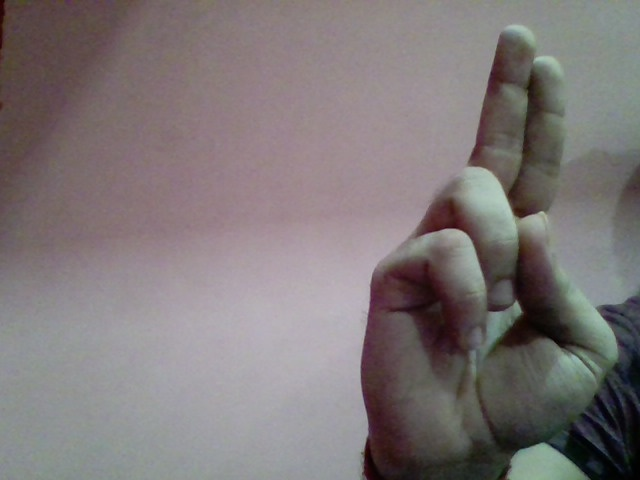u: (343, 18, 627, 471)
